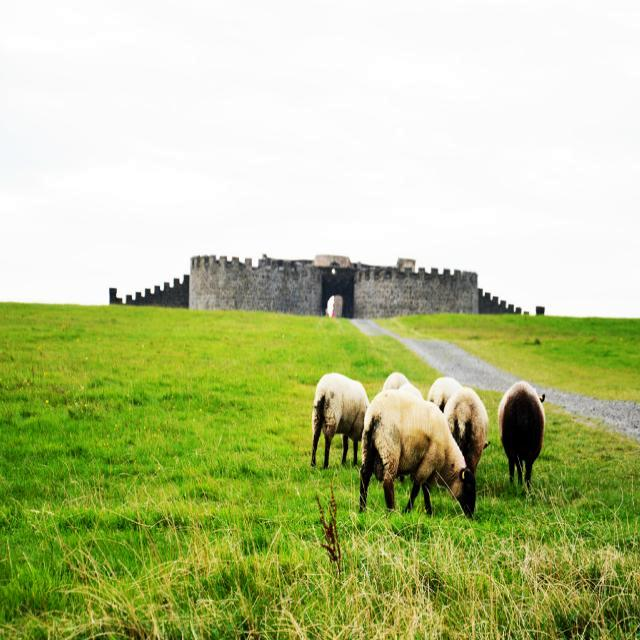sheep: (310, 372, 368, 469)
